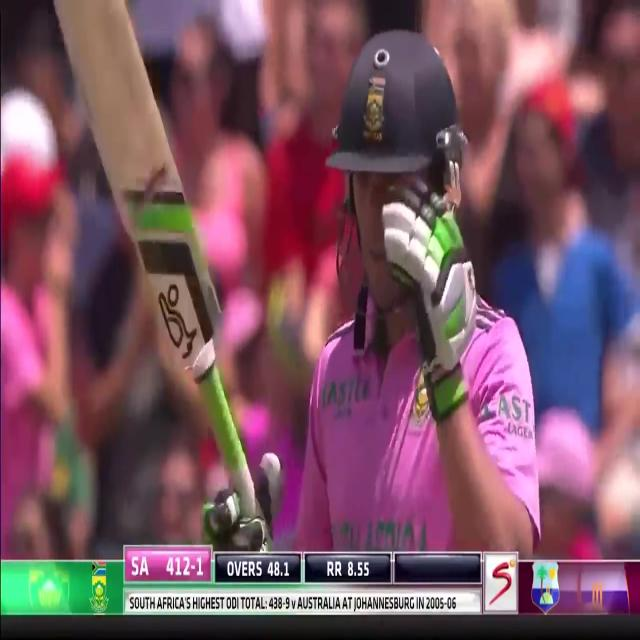Ball: (267, 19, 542, 550)
